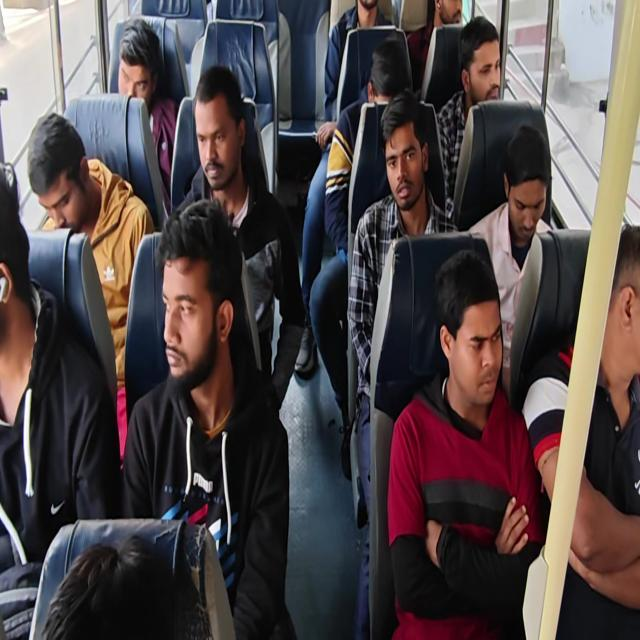person: (439, 274, 505, 406), (162, 225, 216, 373), (0, 166, 34, 373), (600, 242, 640, 400), (500, 120, 551, 243), (383, 107, 439, 215), (106, 13, 160, 117), (24, 132, 84, 220), (461, 21, 511, 114), (194, 92, 237, 187), (362, 39, 411, 121), (436, 0, 469, 39), (353, 0, 379, 20)
